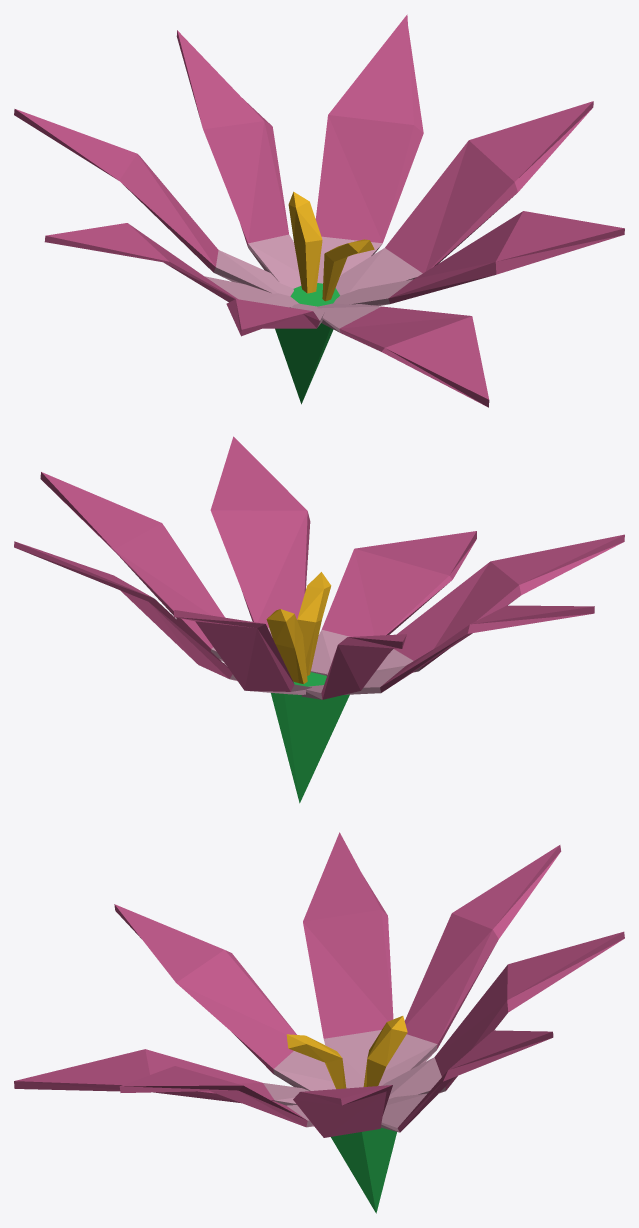
File: flower_2.OBJ
The picture shows the model from 3 angles, top to bottom: view 1: azimuth 30°, elevation 25°; view 2: azimuth 150°, elevation 25°; view 3: azimuth 270°, elevation 25°; orthographic projection.
Visible parts, largest first — view 1: flower_2; view 2: flower_2; view 3: flower_2.
Boxes of the visible parts, bbox=[...] form: flower_2: bbox=[14, 14, 624, 407]; flower_2: bbox=[14, 436, 624, 803]; flower_2: bbox=[14, 832, 624, 1213].
Bounding box in the file's own units: 8.59 × 4.24 × 8.31.
Materials: 1 (1 with a texture image).
